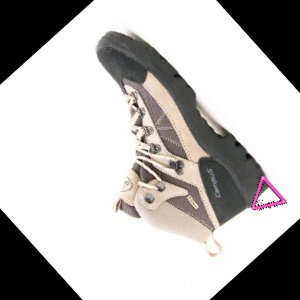triangle: (251, 174, 288, 211)
